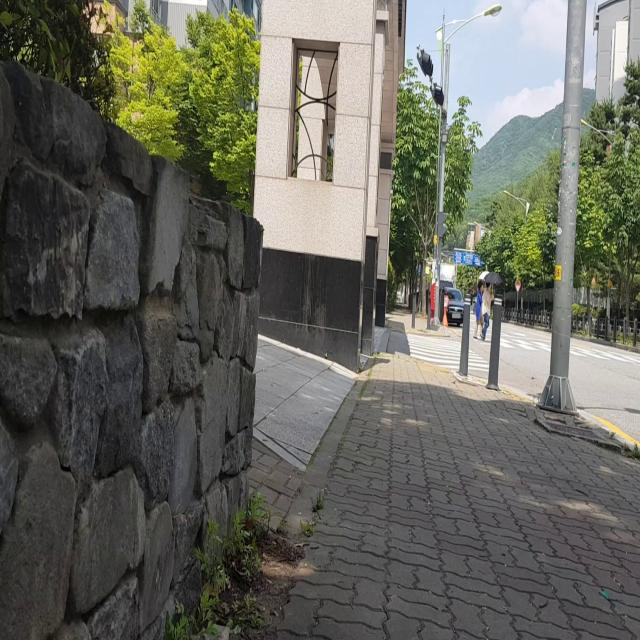횡단보도: (502, 335, 640, 365), (406, 332, 501, 374)
